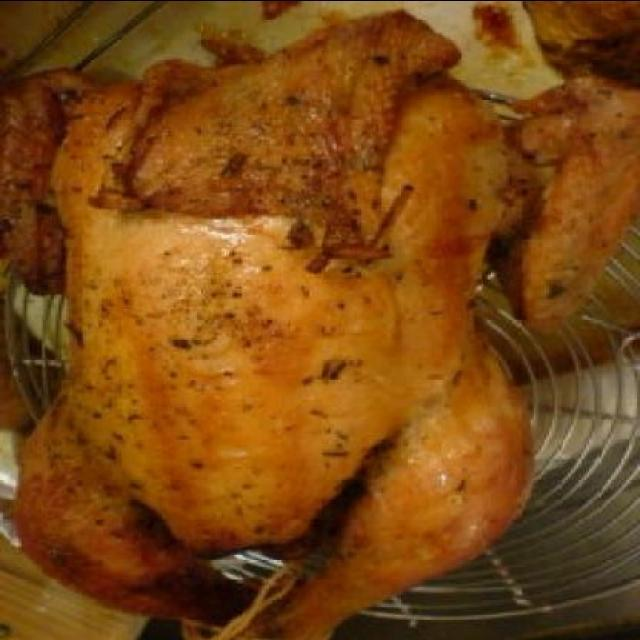Chicken roast: (19, 14, 566, 606)
